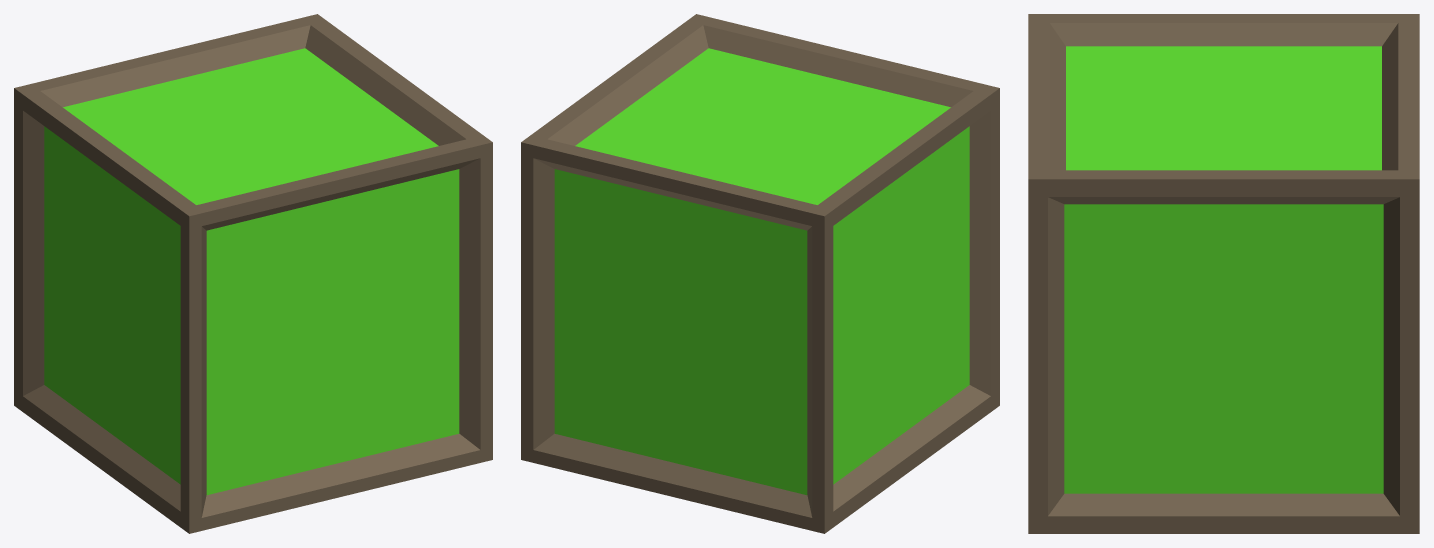
The model's file is simpleBox-SP.fbx.
3 renders of one model, left to right at view 1: azimuth 30°, elevation 25°; view 2: azimuth 150°, elevation 25°; view 3: azimuth 270°, elevation 25°, orthographic. The views are drawn at different scales.
Visible parts, largest first — view 1: Cube.011; view 2: Cube.011; view 3: Cube.011.
Boxes of the visible parts, x1=… form: Cube.011: x1=14, y1=14, x2=492, y2=533; Cube.011: x1=521, y1=14, x2=999, y2=533; Cube.011: x1=1028, y1=14, x2=1419, y2=533.
Size of the model in its own units: 292 by 292 by 292.
